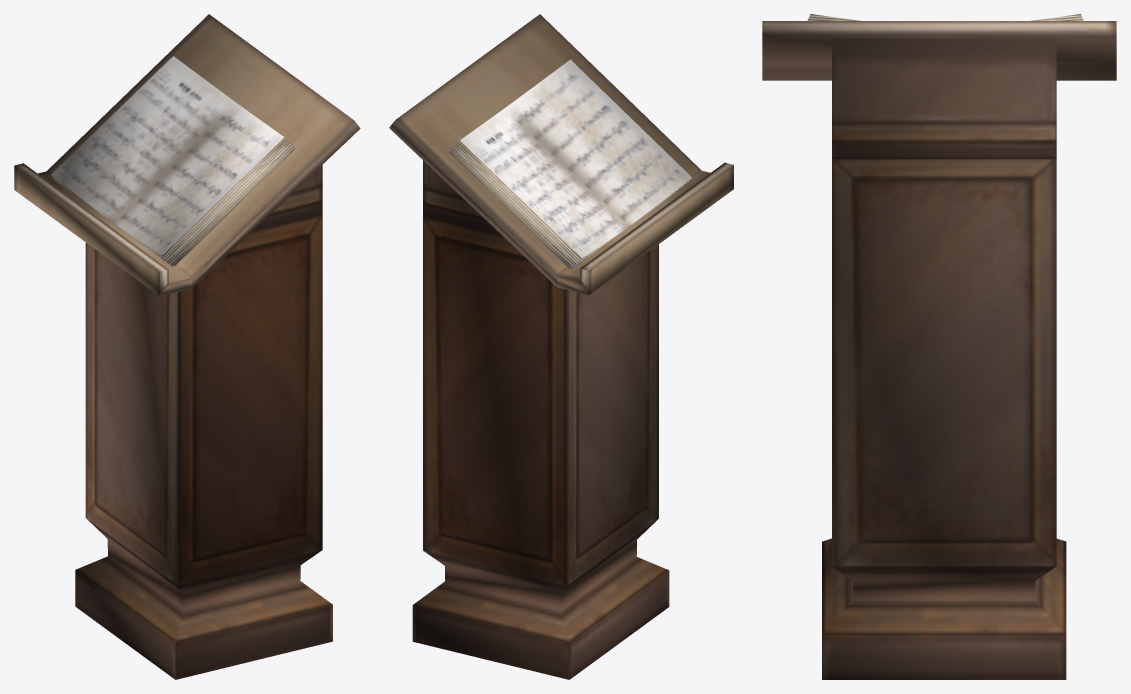
File: a_SCtstair02.glb
3 views of the same model, side by side, from view 1: azimuth 30°, elevation 25°; view 2: azimuth 150°, elevation 25°; view 3: azimuth 270°, elevation 25° (orthographic). The views are drawn at different scales.
Visible parts, largest first — view 1: a_SCtstair02; view 2: a_SCtstair02; view 3: a_SCtstair02.
Boxes of the visible parts, left/top/right/bottom form: a_SCtstair02: left=14, top=14, right=360, bottom=679; a_SCtstair02: left=389, top=14, right=733, bottom=679; a_SCtstair02: left=762, top=14, right=1116, bottom=679.
Size of the model in its own units: 0.3794 by 0.974 by 0.4758.
1 material, 1 textured.
